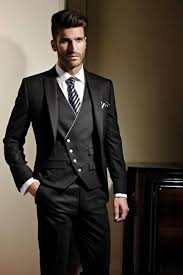tie: (63, 74, 84, 116)
